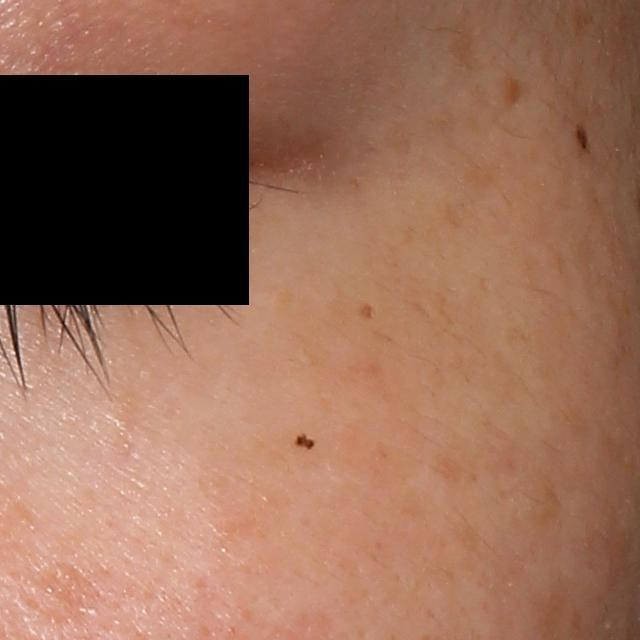melasma: (502, 76, 529, 110), (358, 299, 378, 321)
nevus: (290, 429, 320, 450), (573, 126, 589, 149)
